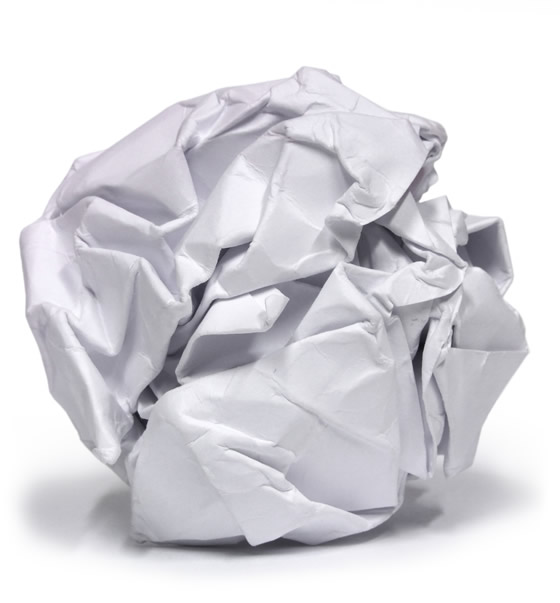flexible: (17, 69, 533, 550)
